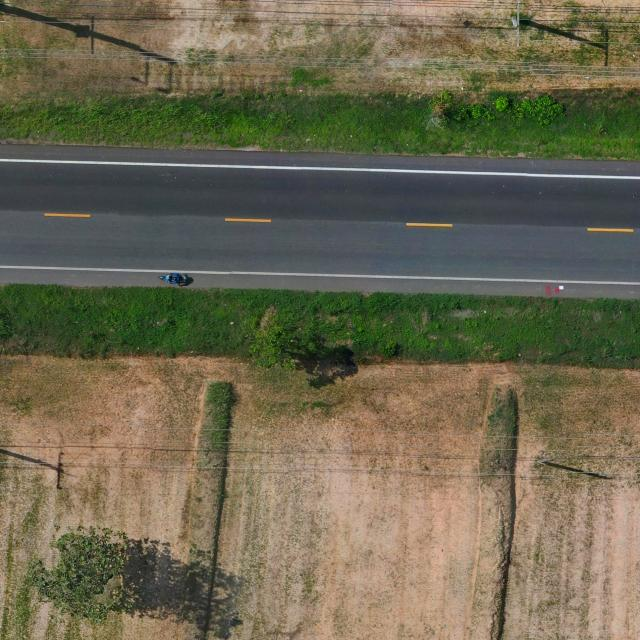Tree: (22, 522, 133, 625), (248, 324, 308, 373)
